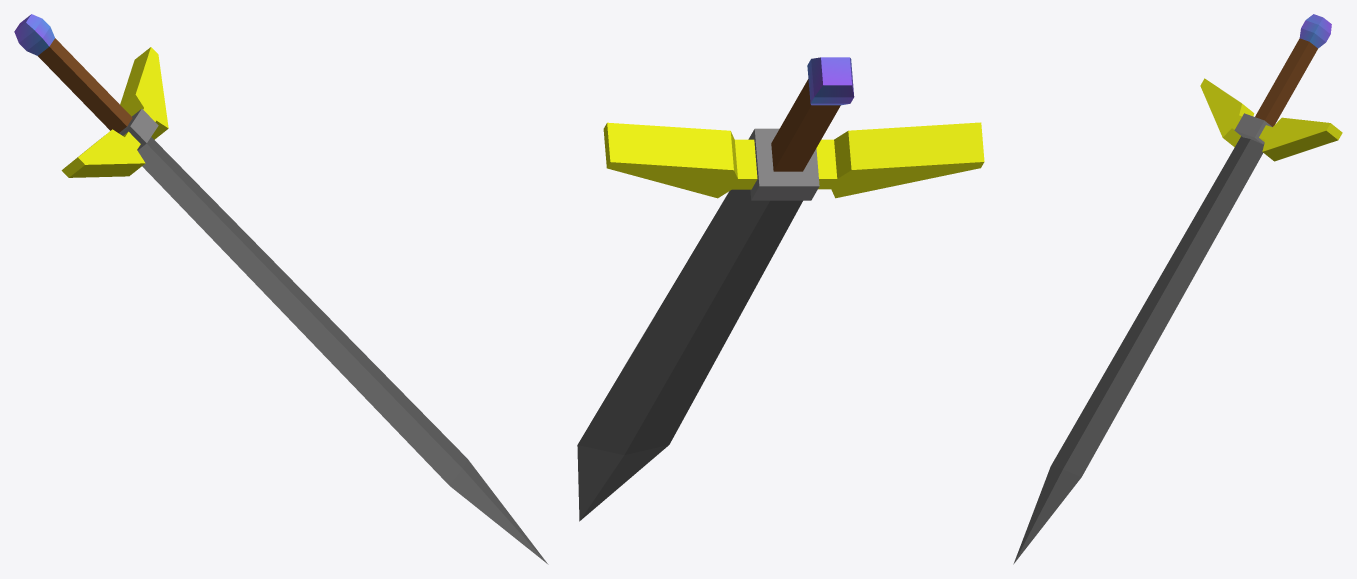
The model's file is sword.glb.
3 renders of one model, left to right at view 1: azimuth 30°, elevation 25°; view 2: azimuth 150°, elevation 25°; view 3: azimuth 270°, elevation 25°, orthographic. The views are drawn at different scales.
Parts seen in each view (by area): view 1: pCylinder916_PG_Mat07_0.001; view 2: pCylinder916_PG_Mat07_0.001; view 3: pCylinder916_PG_Mat07_0.001.
Part boxes in pixels (left/top/right/bottom): pCylinder916_PG_Mat07_0.001: left=14, top=14, right=548, bottom=564; pCylinder916_PG_Mat07_0.001: left=577, top=57, right=984, bottom=521; pCylinder916_PG_Mat07_0.001: left=1013, top=14, right=1342, bottom=564.
Bounding box in the file's own units: 0.1348 × 0.1747 × 0.1264.
Materials: 1 (1 with a texture image).
